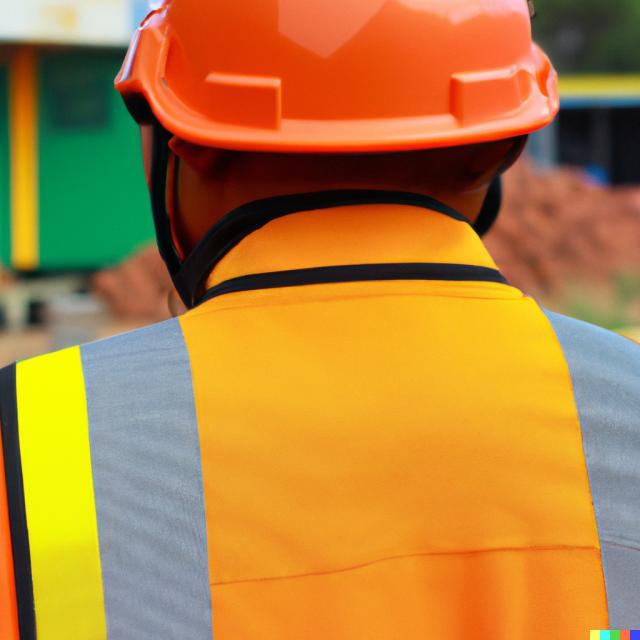Reflective-Jacket: (10, 230, 640, 640)
Safety-Helmet: (120, 5, 572, 153)
